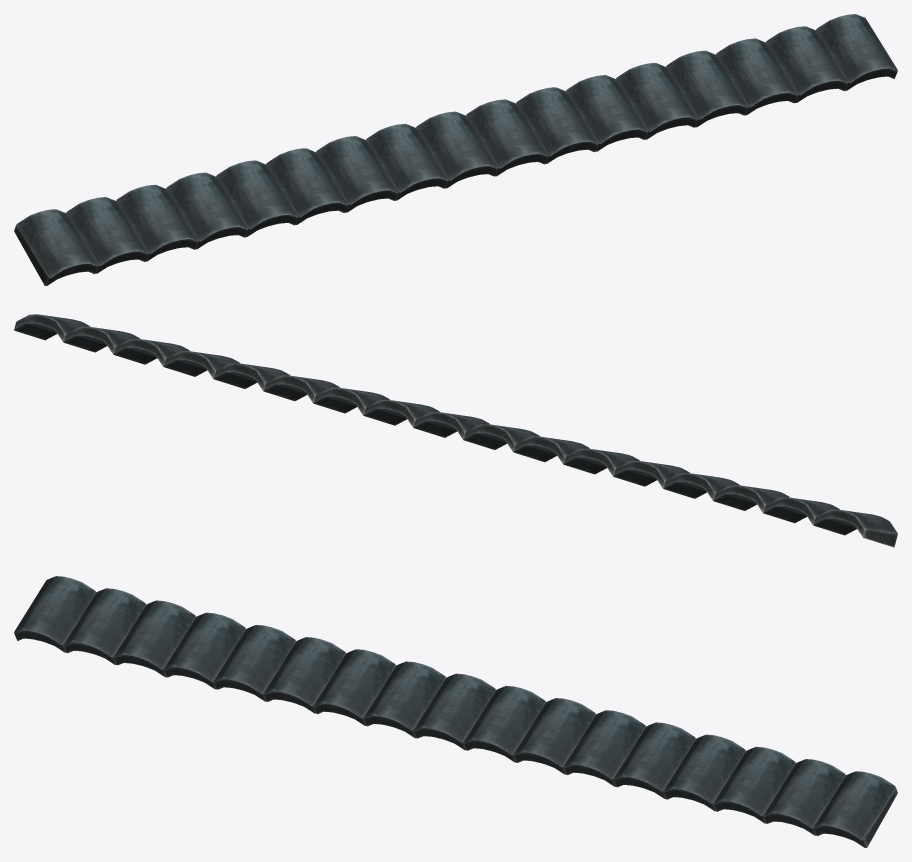
File: tiles04.fbx
3 views of the same model, one above another, from view 1: azimuth 30°, elevation 25°; view 2: azimuth 150°, elevation 25°; view 3: azimuth 330°, elevation 25° (orthographic).
Visible parts, largest first — view 1: Tiles.002; view 2: Tiles.002; view 3: Tiles.002.
Boxes of the visible parts, x1=… form: Tiles.002: x1=14, y1=14, x2=897, y2=285; Tiles.002: x1=14, y1=314, x2=897, y2=547; Tiles.002: x1=14, y1=576, x2=897, y2=847.
Bounding box in the file's own units: 21494 × 1202 × 1690.
